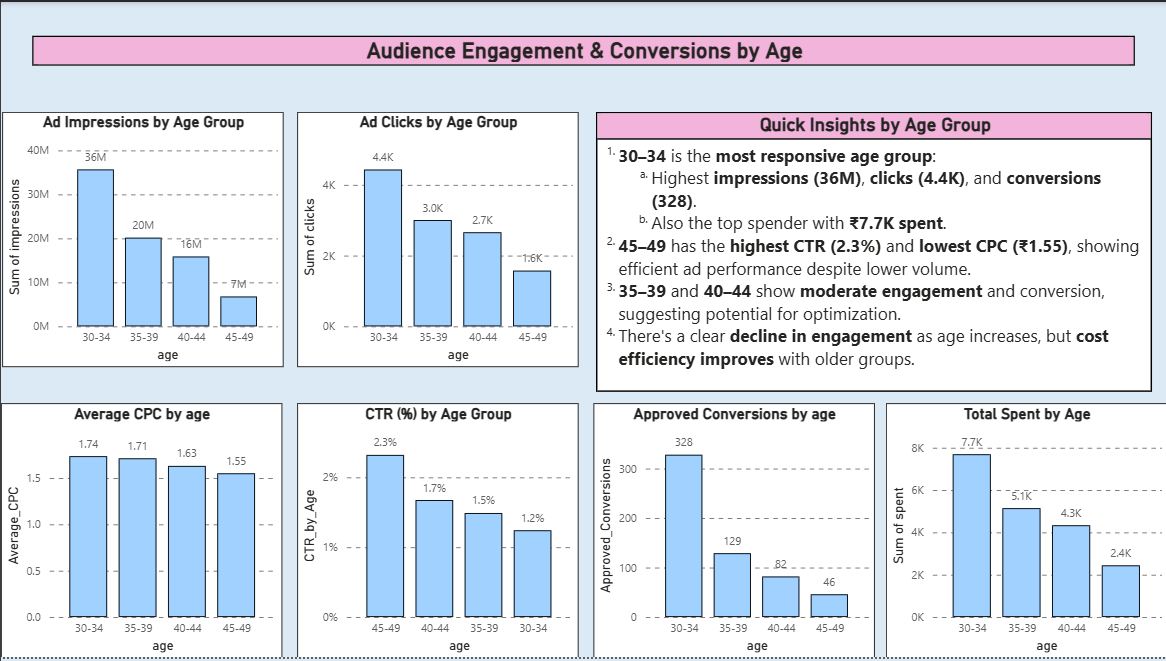

What the dashboard file says about the page in this screenshot:
{"tool":"powerbi","page":{"name":"Page 2","canvas":[1280,720],"ordinal":1},"visuals":[{"type":"clusteredColumnChart","title":"Ad Impressions by Age Group","fields":{"Category":["FB Data.age"],"Y":["Sum(FB Data.impressions)"]},"box":[1.4,120.8,308.7,279.9],"z":0},{"type":"clusteredColumnChart","title":"Ad Clicks by Age Group","fields":{"Category":["FB Data.age"],"Y":["Sum(FB Data.clicks)"]},"box":[325.2,120.8,308.7,279.9],"z":1000},{"type":"clusteredColumnChart","title":"CTR (%) by Age Group","fields":{"Category":["FB Data.age"],"Y":["FB Data.CTR_by_Age"]},"box":[325.2,440.5,308.7,279.9],"z":2000},{"type":"clusteredColumnChart","title":"Approved Conversions by age","fields":{"Category":["FB Data.age"],"Y":["FB Data.Approved_Conversions"]},"box":[650.4,440.1,308.7,279.9],"z":3000},{"type":"clusteredColumnChart","title":"Average CPC by age","fields":{"Category":["FB Data.age"],"Y":["FB Data.Average_CPC"]},"box":[0,440.5,308.7,279.9],"z":4000},{"type":"clusteredColumnChart","title":"Total  Spent by Age","fields":{"Category":["FB Data.age"],"Y":["Sum(FB Data.spent)"]},"box":[971.5,440.5,308.7,279.9],"z":5000},{"type":"textbox","title":"Audience Engagement & Conversions by Age","box":[34.3,37,1210.3,32.9],"z":6000},{"type":"textbox","title":"Quick Insights by Age Group","box":[653.2,120.8,610.6,307.4],"z":7000}]}

Visuals, with their boxes in screenshot pixels (x1, y1, x2, y2), scaled from the page's 1280x720 canvas onto the 1166x661 screenshot:
"Ad Impressions by Age Group" clusteredColumnChart: (x1=1, y1=111, x2=282, y2=368)
"Ad Clicks by Age Group" clusteredColumnChart: (x1=296, y1=111, x2=577, y2=368)
"CTR (%) by Age Group" clusteredColumnChart: (x1=296, y1=404, x2=577, y2=660)
"Approved Conversions by age" clusteredColumnChart: (x1=592, y1=404, x2=874, y2=660)
"Average CPC by age" clusteredColumnChart: (x1=0, y1=404, x2=281, y2=660)
"Total  Spent by Age" clusteredColumnChart: (x1=885, y1=404, x2=1165, y2=660)
"Audience Engagement & Conversions by Age" textbox: (x1=31, y1=34, x2=1134, y2=64)
"Quick Insights by Age Group" textbox: (x1=595, y1=111, x2=1151, y2=393)
